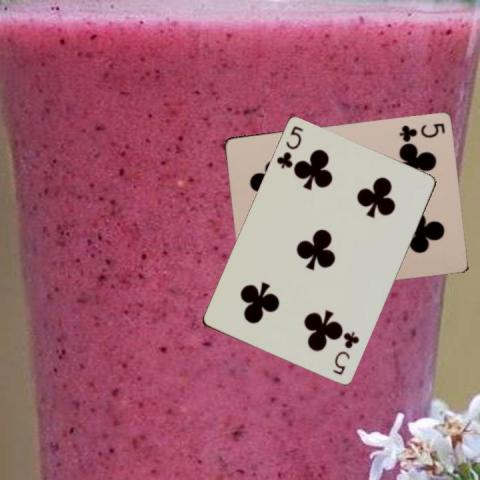5c: (273, 123, 305, 171), (330, 329, 361, 377), (396, 119, 447, 141)
